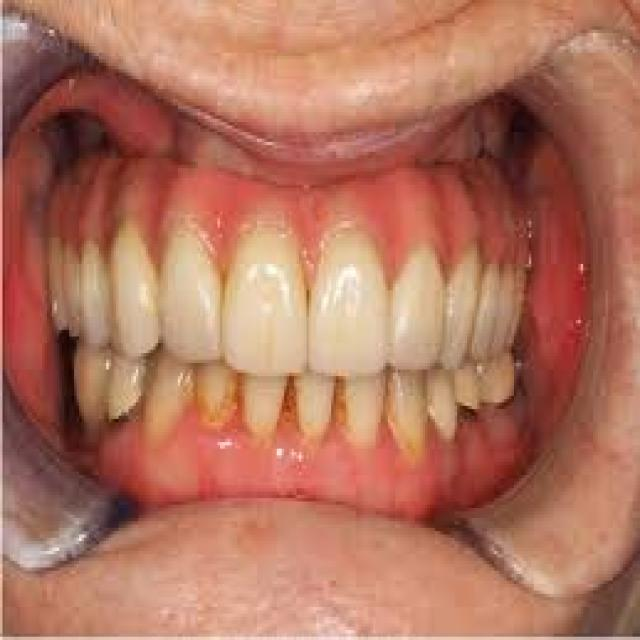tooth: (225, 221, 311, 383), (309, 224, 388, 376), (158, 224, 230, 370), (386, 238, 450, 376), (106, 218, 163, 360), (141, 336, 200, 446), (240, 343, 296, 436), (418, 346, 474, 429), (385, 359, 435, 448), (450, 241, 484, 353), (341, 359, 388, 438), (198, 356, 245, 426), (297, 363, 336, 442)
